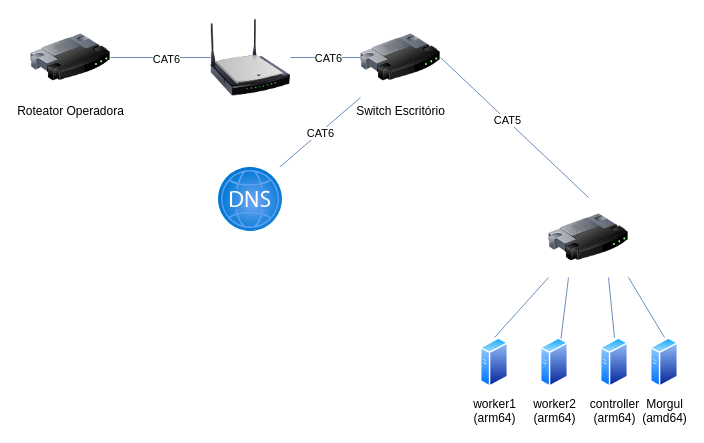
Image size: 704x443. Some labels were removed from this diagram. The centre of each missing label's shape, as x and y in pixels:
"PI Hole" belongs at point 250,199.
"Roteador Interno" belongs at point 250,57.
"Switch Cluster" belongs at point 588,237.
